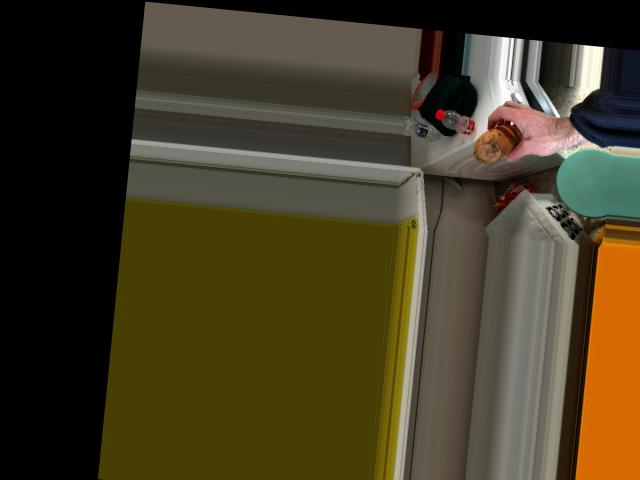sweet_potato: (471, 122, 523, 165)
